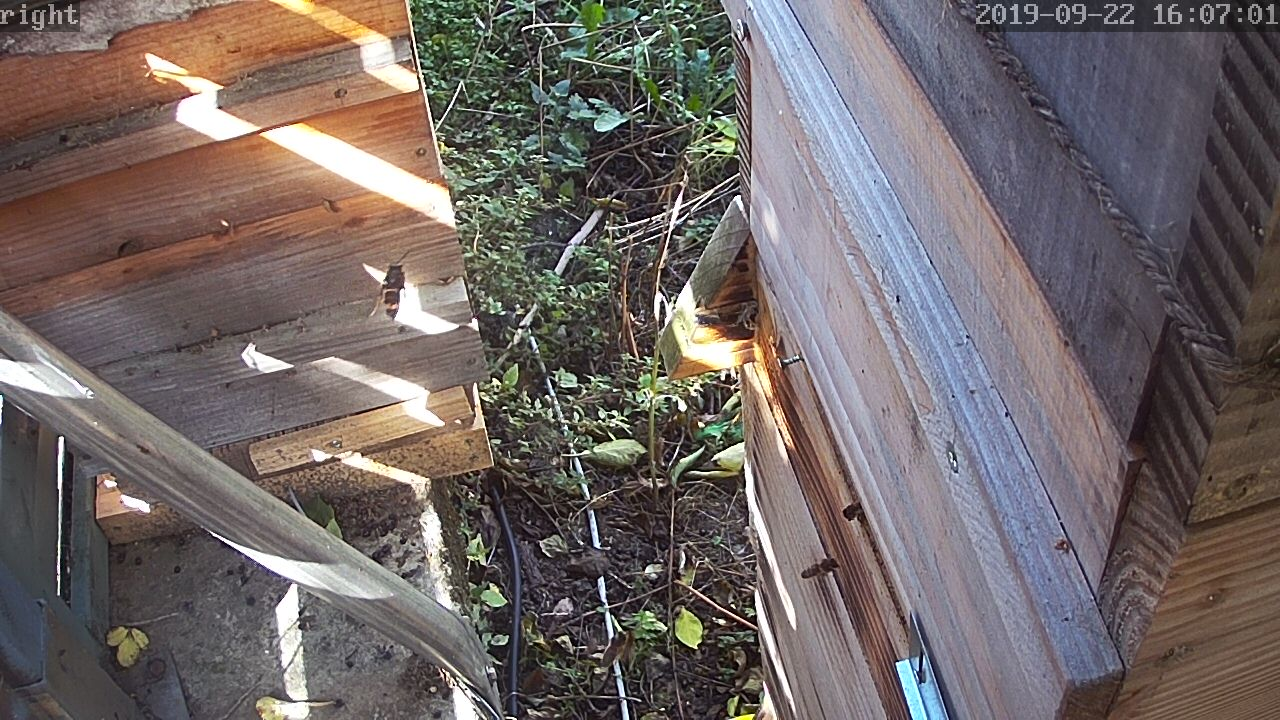bee: (799, 552, 844, 589), (835, 500, 869, 533)
hornet: (361, 259, 407, 318)
